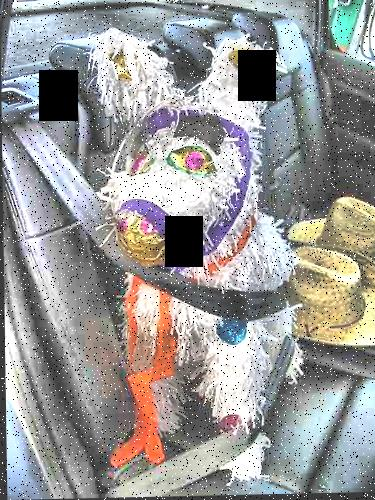seatbelt: (23, 99, 309, 423)
